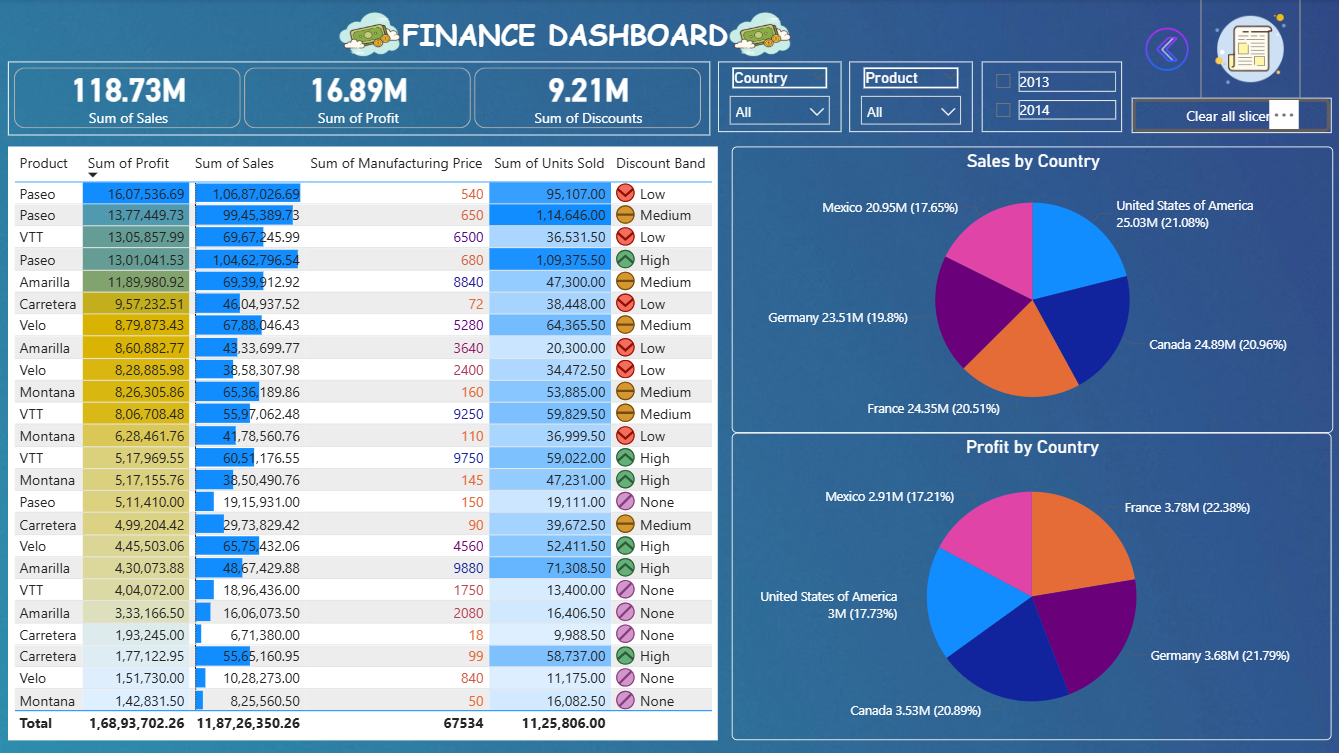

This screenshot's page, from the dashboard's own definition file:
{"tool":"powerbi","page":{"name":"Dashboard 2","canvas":[1280,720],"ordinal":5},"visuals":[{"type":"textbox","box":[10,10,1061.2,50],"z":0},{"type":"cardVisual","fields":{"Data":["Sum(financials. Sales)","Sum(financials.Profit)","Sum(financials.Discounts)"]},"box":[10,60,668.8,70],"z":1000},{"type":"slicer","fields":{"Values":["financials.Country"]},"box":[686.2,60,117.5,67.5],"z":2000},{"type":"slicer","fields":{"Values":["financials.Product"]},"box":[811.2,60,117.5,67.5],"z":3000},{"type":"slicer","fields":{"Values":["financials.Year"]},"box":[937.5,60,133.8,67.5],"z":4000},{"type":"actionButton","box":[1080,93.8,190,33.8],"z":5000},{"type":"image","box":[686.2,0,80,68.8],"z":6000},{"type":"image","box":[314.5,0,79.4,69.3],"z":7000},{"type":"tableEx","fields":{"Values":["financials.Product","Sum(financials.Profit)","Sum(financials. Sales)","Sum(financials.Manufacturing Price)","Sum(financials.Units Sold)","financials.Discount Band"]},"box":[10,140,675.7,565.7],"z":8000},{"type":"pieChart","title":"Sales by Country","fields":{"Category":["financials.Country"],"Y":["Sum(financials. Sales)"]},"box":[698.6,140,572.9,272.9],"z":9000},{"type":"pieChart","title":"Profit by Country","fields":{"Category":["financials.Country"],"Y":["Sum(financials.Profit)"]},"box":[698.6,412.9,571.4,292.9],"z":10000},{"type":"image","box":[1145.6,0,95.2,95.2],"z":11000},{"type":"image","box":[1080.6,17.3,64.9,60.6],"z":12000}]}

Visuals, with their boxes in screenshot pixels (x1, y1, x2, y2), scaled from the page's 1280x720 canvas onto the 1339x753 screenshot:
textbox: box=[10, 10, 1121, 63]
cardVisual - Sum(financials. Sales) x Sum(financials.Profit): box=[10, 63, 710, 136]
slicer - financials.Country: box=[718, 63, 841, 133]
slicer - financials.Product: box=[849, 63, 972, 133]
slicer - financials.Year: box=[981, 63, 1121, 133]
actionButton: box=[1130, 98, 1329, 133]
image: box=[718, 0, 802, 72]
image: box=[329, 0, 412, 72]
tableEx - financials.Product x Sum(financials.Profit): box=[10, 146, 717, 738]
"Sales by Country" pieChart: box=[731, 146, 1330, 432]
"Profit by Country" pieChart: box=[731, 432, 1329, 738]
image: box=[1198, 0, 1298, 100]
image: box=[1130, 18, 1198, 81]
